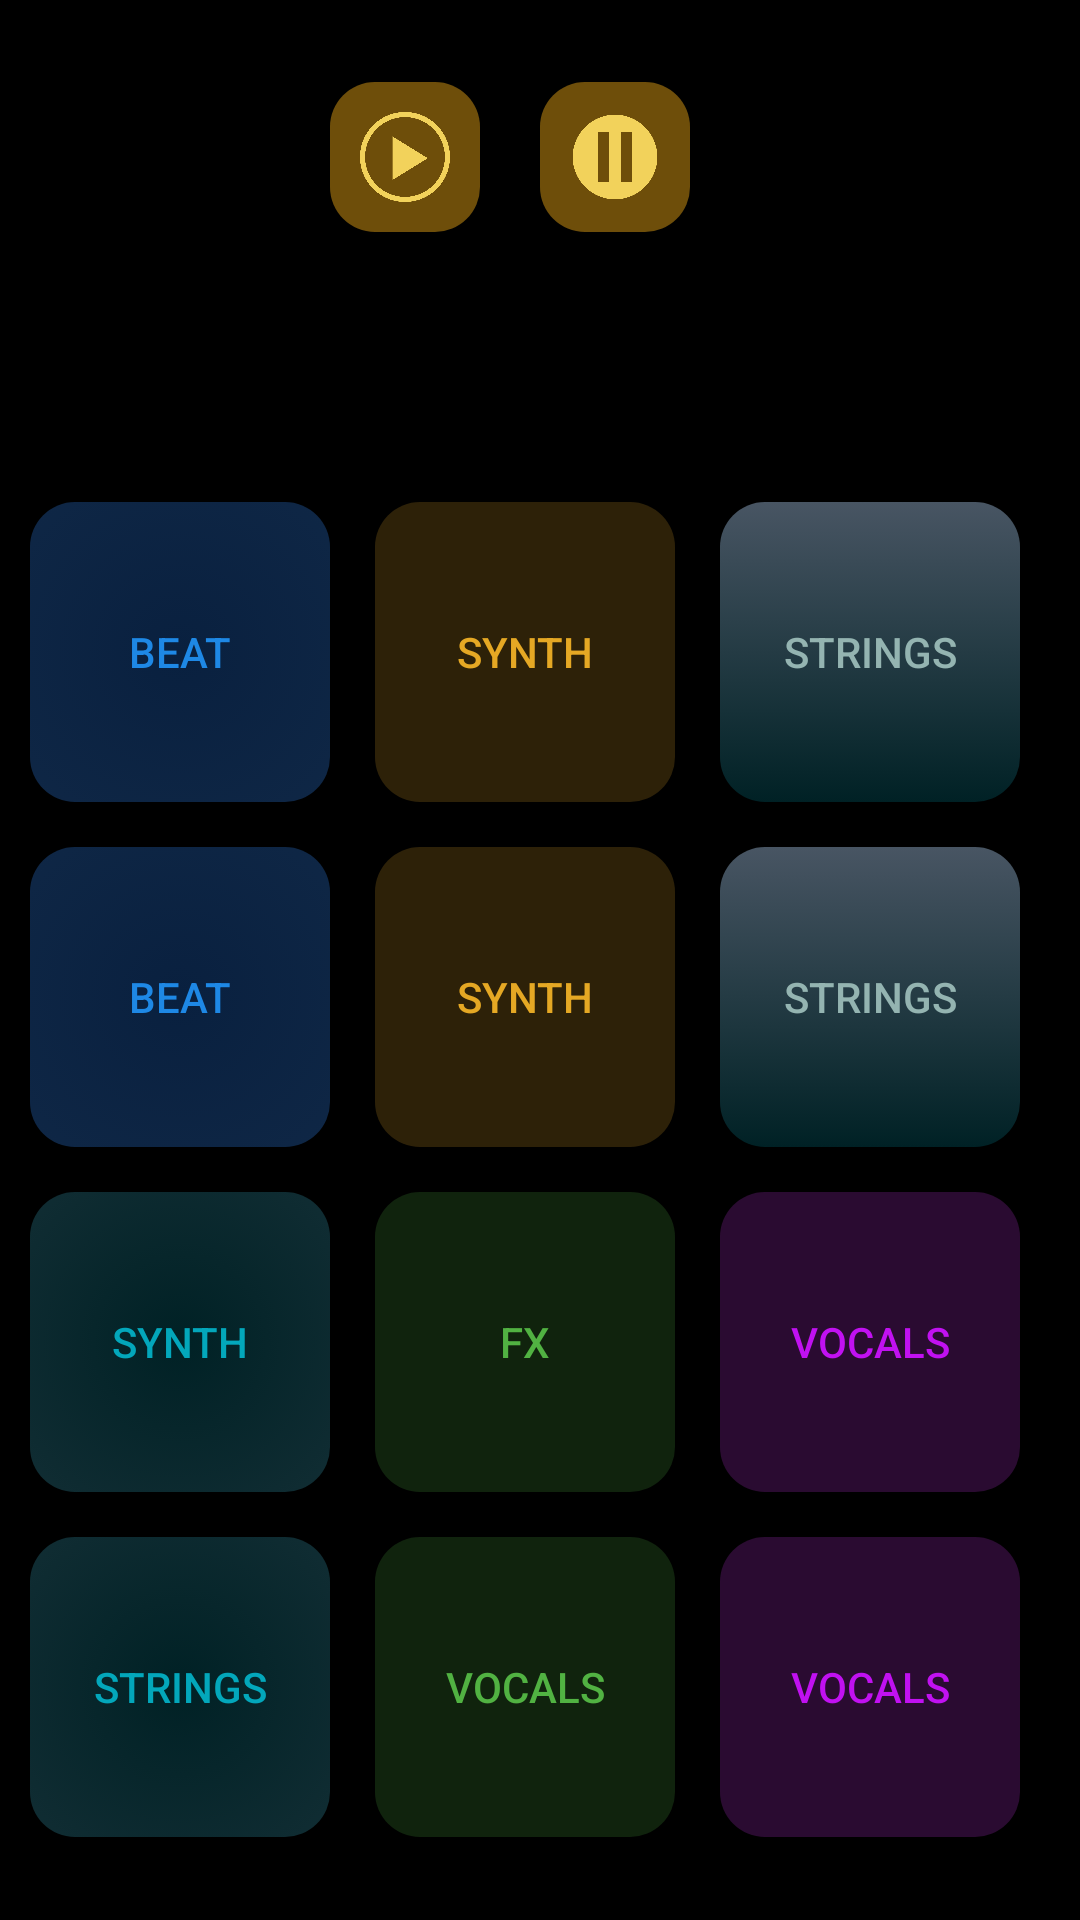

Where icons sit on this 1080 × 1920 app screen, as (x1, y1, x2, y2):
play: (330, 82, 480, 232)
